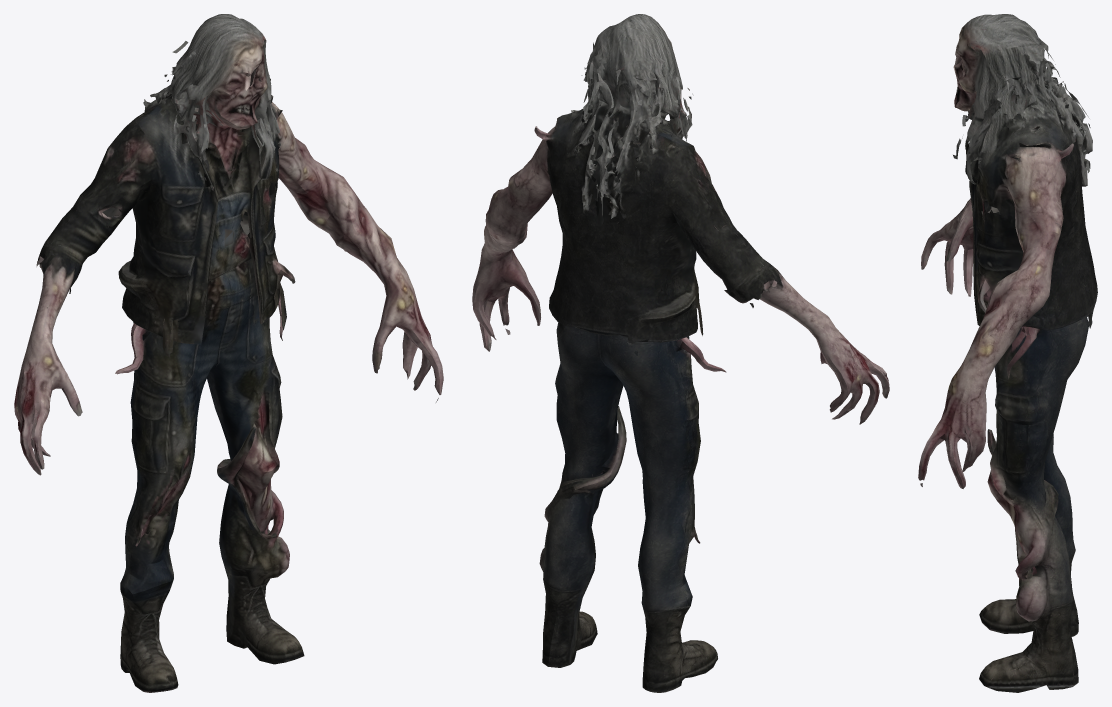
The model's file is dona_nice_monster.glb.
The picture shows the model from 3 angles, left to right: view 1: azimuth 30°, elevation 25°; view 2: azimuth 150°, elevation 25°; view 3: azimuth 270°, elevation 25°; orthographic projection. The views are drawn at different scales.
Parts seen in each view (by area): view 1: Mesh_0; view 2: Mesh_0; view 3: Mesh_0.
Boxes of the visible parts, box(x1,y1,x2,y2) form: Mesh_0: box(14, 14, 443, 692); Mesh_0: box(472, 14, 889, 692); Mesh_0: box(918, 14, 1097, 692).
Bounding box in the file's own units: 1.25 × 1.9 × 0.4804.
Materials: 1 (1 with a texture image).
